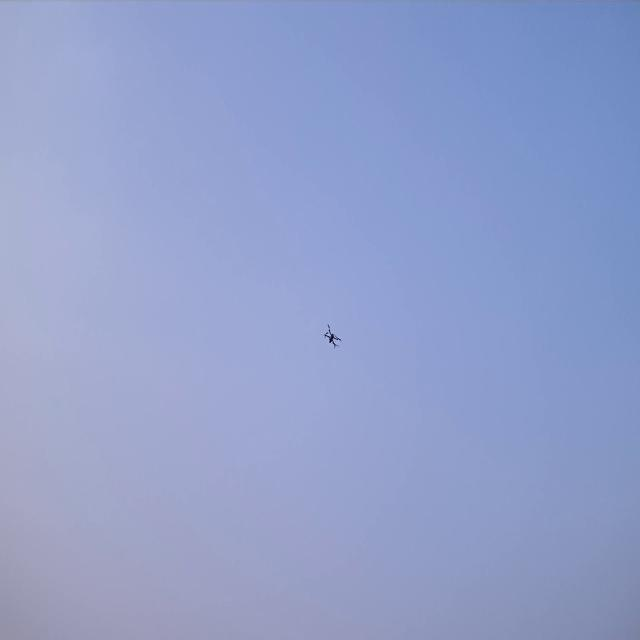UAV: (322, 322, 343, 349)
